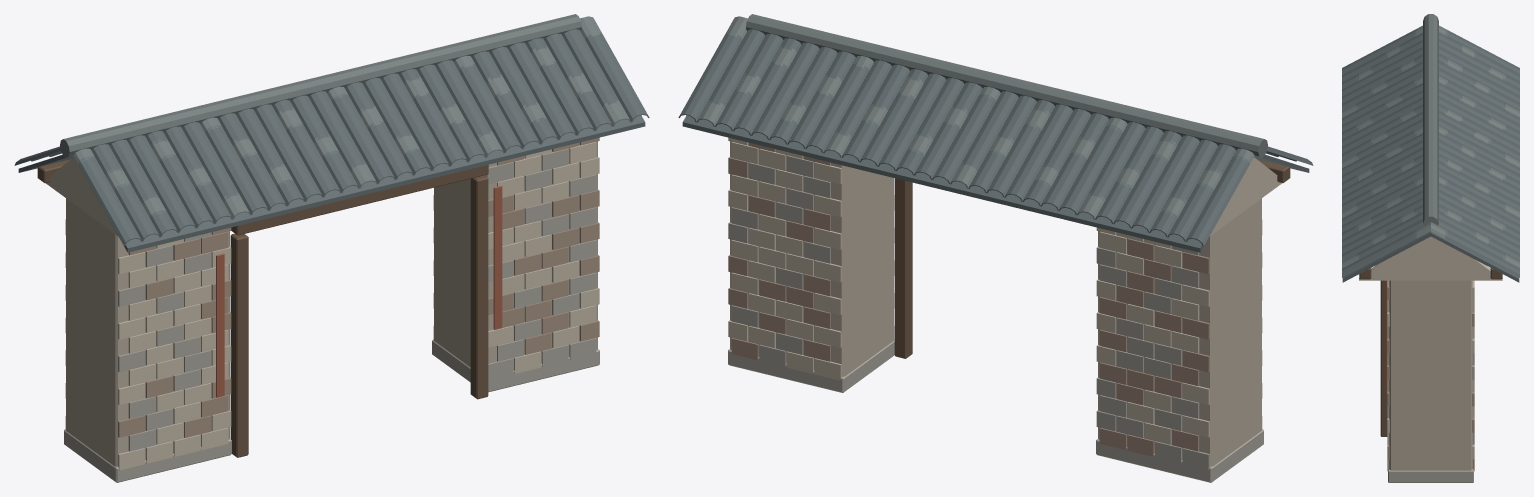
Rendered from gatehouse.glb.
3 renders of one model, left to right at view 1: azimuth 30°, elevation 25°; view 2: azimuth 150°, elevation 25°; view 3: azimuth 270°, elevation 25°, orthographic. The views are drawn at different scales.
Parts seen in each view (by area): view 1: GateMasonry, RoofVisual, TimberFrame; view 2: GateMasonry, RoofVisual, TimberFrame; view 3: RoofVisual, GateMasonry, TimberFrame.
Part boxes in pixels (x1,y1,x2,y2): GateMasonry: [45, 137, 599, 482]; RoofVisual: [14, 14, 649, 252]; TimberFrame: [37, 159, 502, 457]; GateMasonry: [728, 137, 1282, 482]; RoofVisual: [678, 14, 1313, 252]; TimberFrame: [894, 159, 1290, 358]; RoofVisual: [1342, 14, 1519, 282]; GateMasonry: [1359, 236, 1502, 482]; TimberFrame: [1359, 268, 1502, 436].
Size of the model in its own units: 7.02 by 4.18 by 2.52.
